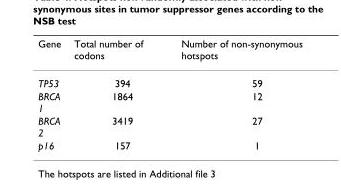table: (37, 37, 301, 150)
table column: (161, 37, 301, 150), (66, 37, 161, 150), (37, 37, 66, 150)
table column header: (37, 37, 301, 68)
table row: (37, 37, 301, 68), (37, 113, 301, 138), (37, 89, 301, 113), (37, 68, 301, 89), (37, 138, 301, 150)
